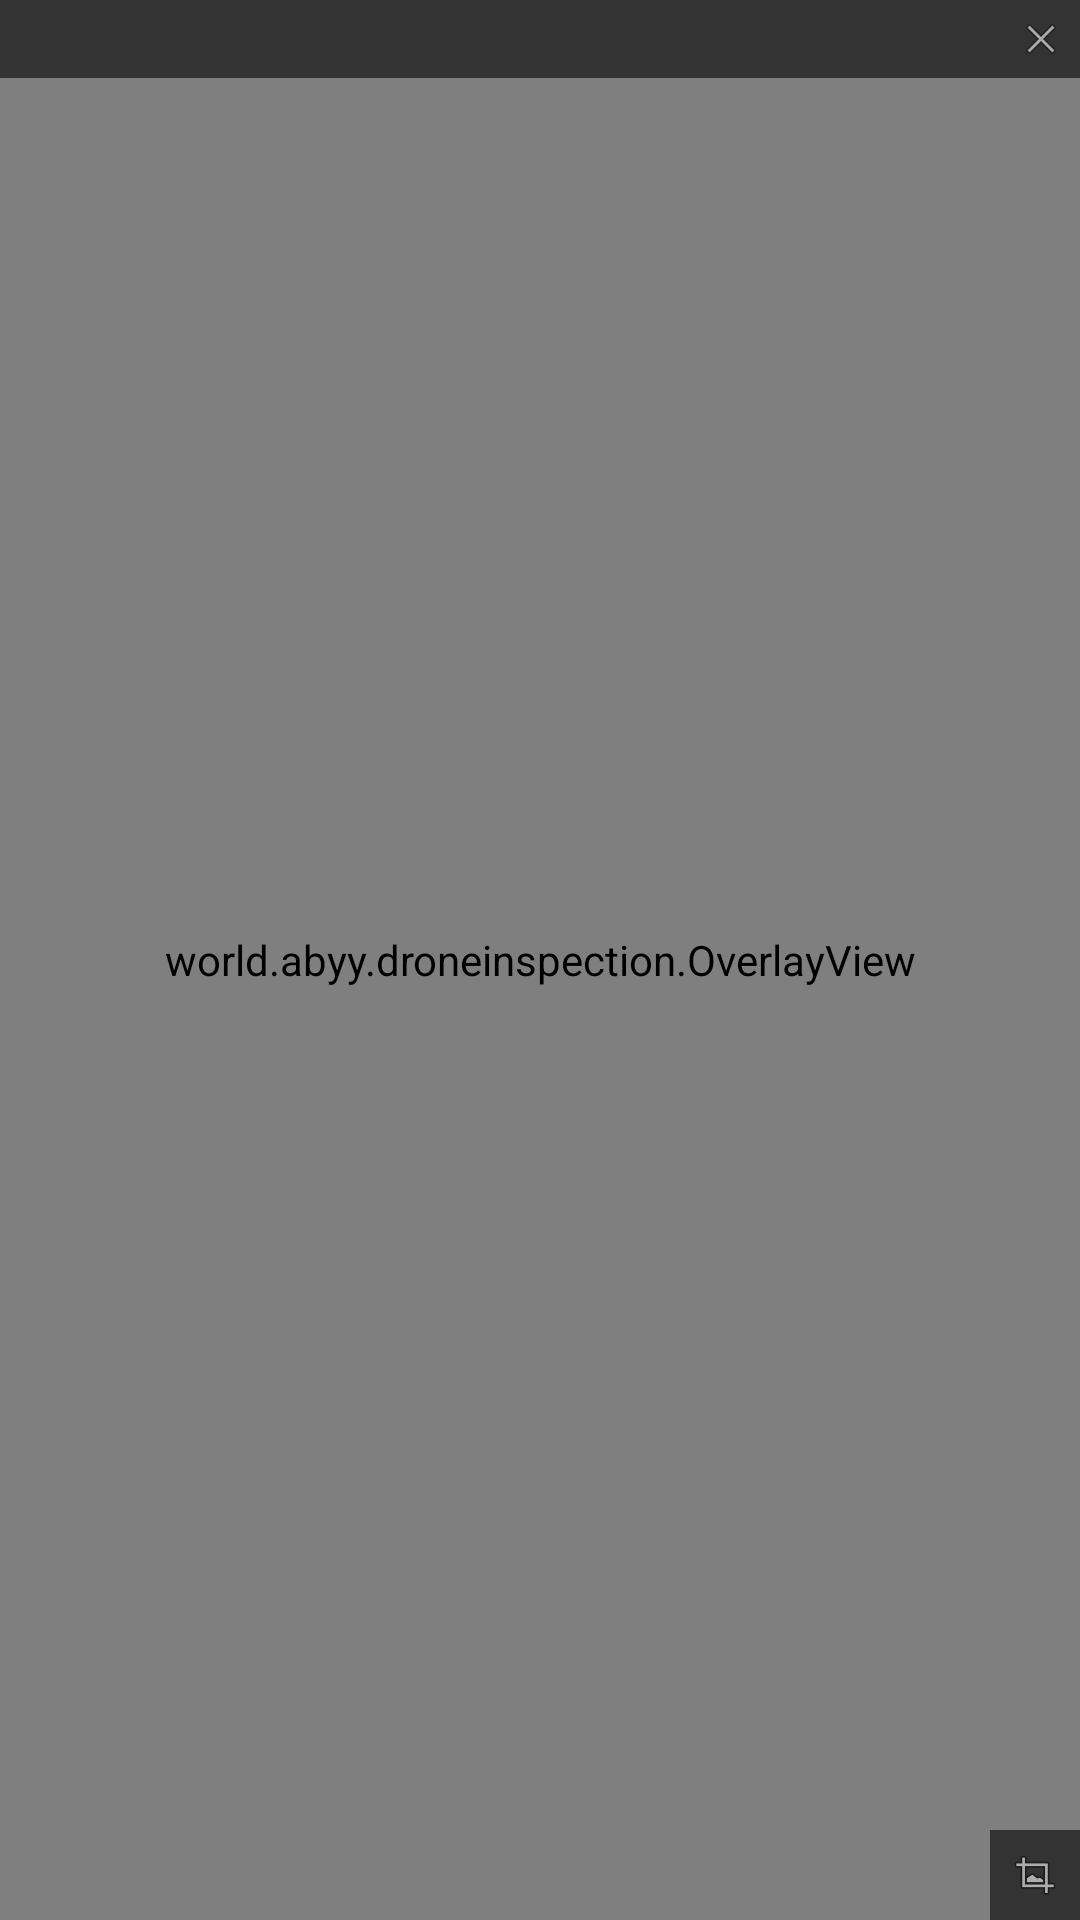

Named icons in this screenshot (1080w x 1920h) and their centers, (x=x, y=y):
Close the floating window: (x=1041, y=39)
